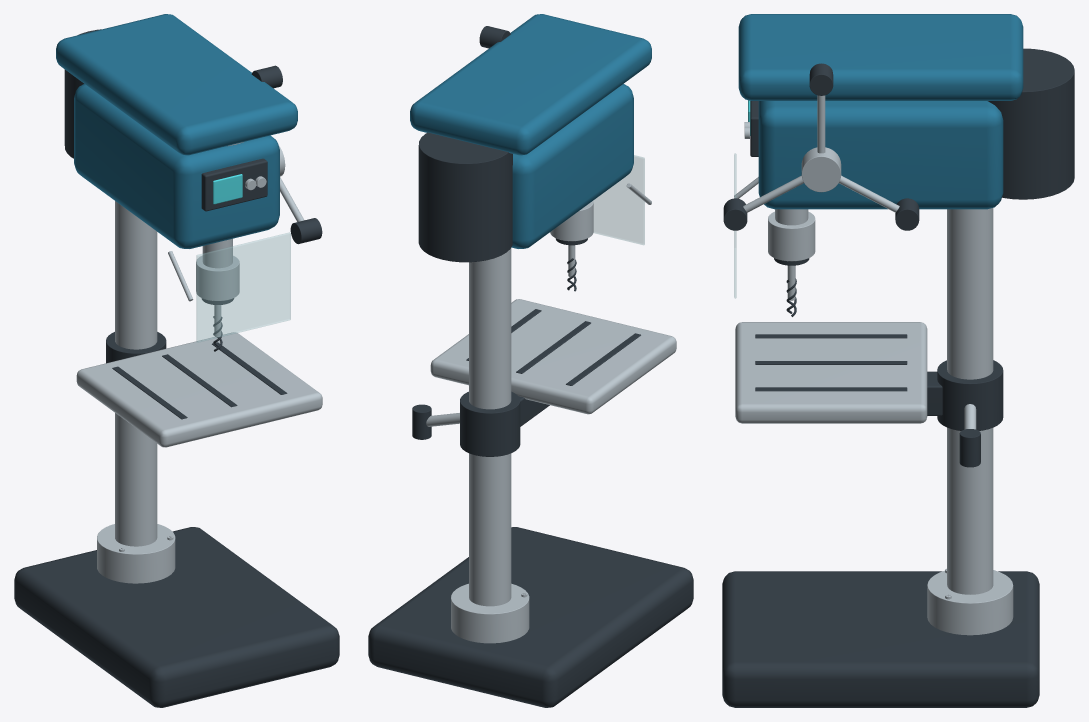
The model's file is 07_pillar_drill_press.glb.
3 renders of one model, left to right at view 1: azimuth 30°, elevation 25°; view 2: azimuth 150°, elevation 25°; view 3: azimuth 270°, elevation 25°, orthographic. The views are drawn at different scales.
Parts seen in each view (by area): view 1: Cast_Base, Belt_Cover, Head_Casting, Work_Table, Column, Transparent_ChuckGuard, Column_Mount, Control_Fascia, Chuck_Body, Rear_Motor, Table_ColumnClamp, Quill (+2 smaller); view 2: Cast_Base, Belt_Cover, Work_Table, Column, Head_Casting, Rear_Motor, Column_Mount, Table_ColumnClamp, Transparent_ChuckGuard, Chuck_Body, Table_LockGrip; view 3: Cast_Base, Belt_Cover, Head_Casting, Work_Table, Column, Rear_Motor, Column_Mount, Table_ColumnClamp, Chuck_Body, Feed_Hub, Table_LockGrip, Table_TSlot_-0.095 (+8 smaller).
Part boxes in pixels (x1,y1,x2,y2): Cast_Base: (14,527,339,707); Belt_Cover: (56,14,297,155); Head_Casting: (74,84,279,248); Work_Table: (76,332,322,447); Column: (115,201,157,546); Transparent_ChuckGuard: (196,232,290,342); Column_Mount: (97,524,175,583); Control_Fascia: (201,158,267,211); Chuck_Body: (196,256,239,300); Rear_Motor: (64,29,101,158); Table_ColumnClamp: (106,332,166,363); Quill: (202,238,232,268); Cast_Base: (368,527,693,707); Belt_Cover: (410,14,651,155); Work_Table: (430,299,676,414); Column: (469,248,511,606); Head_Casting: (511,84,633,248); Rear_Motor: (418,132,512,262); Column_Mount: (451,583,529,643); Table_ColumnClamp: (460,391,520,456); Transparent_ChuckGuard: (593,155,644,244); Chuck_Body: (550,201,593,241); Table_LockGrip: (412,404,431,439); Cast_Base: (722,571,1039,707); Belt_Cover: (738,14,1023,100); Head_Casting: (758,101,1003,209); Work_Table: (735,322,927,423); Column: (947,208,993,594); Rear_Motor: (988,48,1074,199); Column_Mount: (927,570,1013,635); Table_ColumnClamp: (937,360,1003,430); Chuck_Body: (768,211,815,261); Feed_Hub: (801,147,841,192); Table_LockGrip: (959,429,980,467); Table_TSlot_-0.095: (755,334,907,338).
Bounding box in the file's own units: 0.36 × 1.05 × 0.533.
